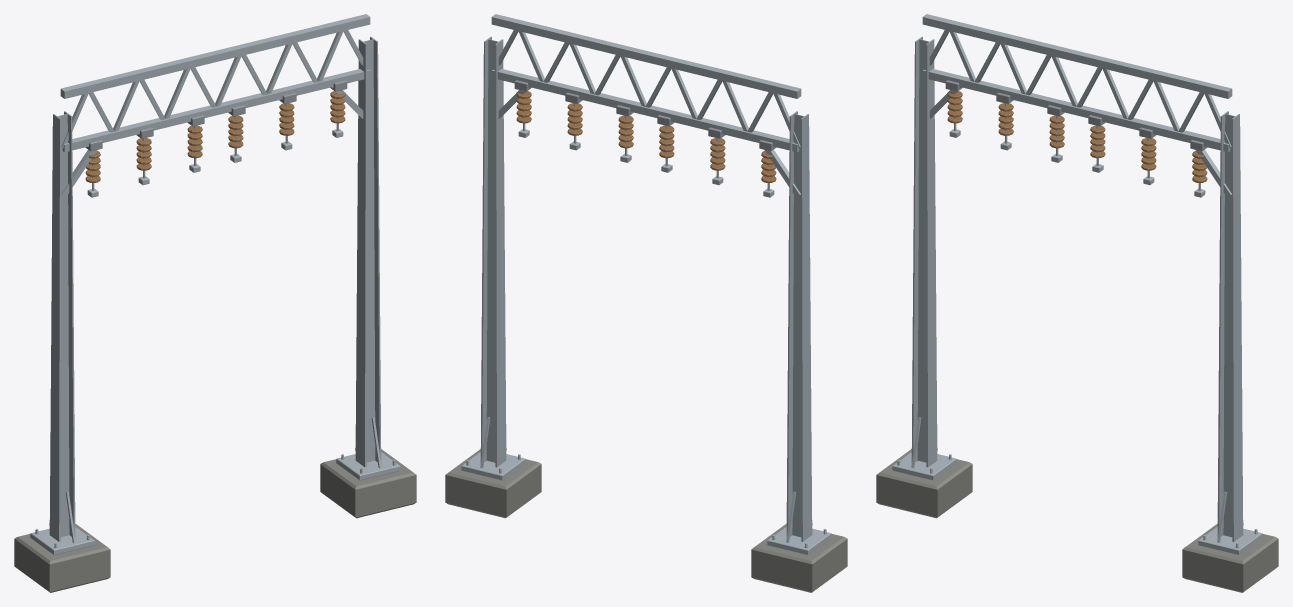
The model's file is UTILITY_05.obj.
3 renders of one model, left to right at view 1: azimuth 30°, elevation 25°; view 2: azimuth 150°, elevation 25°; view 3: azimuth 330°, elevation 25°, orthographic.
Visible parts, largest first — view 1: UTILITY_05__column, UTILITY_05__footing, UTILITY_05__chord, UTILITY_05__web, UTILITY_05__insulator_string, UTILITY_05__base_plate, UTILITY_05__mount_plate, UTILITY_05__knee_brace; view 2: UTILITY_05__column, UTILITY_05__footing, UTILITY_05__chord, UTILITY_05__web, UTILITY_05__insulator_string, UTILITY_05__base_plate, UTILITY_05__mount_plate, UTILITY_05__knee_brace; view 3: UTILITY_05__column, UTILITY_05__footing, UTILITY_05__chord, UTILITY_05__web, UTILITY_05__insulator_string, UTILITY_05__base_plate, UTILITY_05__mount_plate, UTILITY_05__knee_brace.
Boxes of the visible parts, x1,y1,x2,y2 form: UTILITY_05__column: (49,36,381,541); UTILITY_05__footing: (14,449,416,592); UTILITY_05__chord: (60,14,370,152); UTILITY_05__web: (61,30,370,147); UTILITY_05__insulator_string: (85,91,345,190); UTILITY_05__base_plate: (30,452,400,554); UTILITY_05__mount_plate: (85,80,347,151); UTILITY_05__knee_brace: (61,87,371,197); UTILITY_05__column: (480,36,812,541); UTILITY_05__footing: (445,449,847,592); UTILITY_05__chord: (491,14,801,152); UTILITY_05__web: (491,30,800,147); UTILITY_05__insulator_string: (516,91,776,190); UTILITY_05__base_plate: (461,452,831,554); UTILITY_05__mount_plate: (514,80,776,151); UTILITY_05__knee_brace: (490,87,800,197); UTILITY_05__column: (911,36,1243,541); UTILITY_05__footing: (876,449,1278,592); UTILITY_05__chord: (922,14,1232,152); UTILITY_05__web: (922,30,1231,147); UTILITY_05__insulator_string: (947,91,1207,190); UTILITY_05__base_plate: (892,452,1262,554); UTILITY_05__mount_plate: (945,80,1207,151); UTILITY_05__knee_brace: (921,87,1231,197).
Size of the model in its own units: 7.2 by 9.07 by 1.2.
